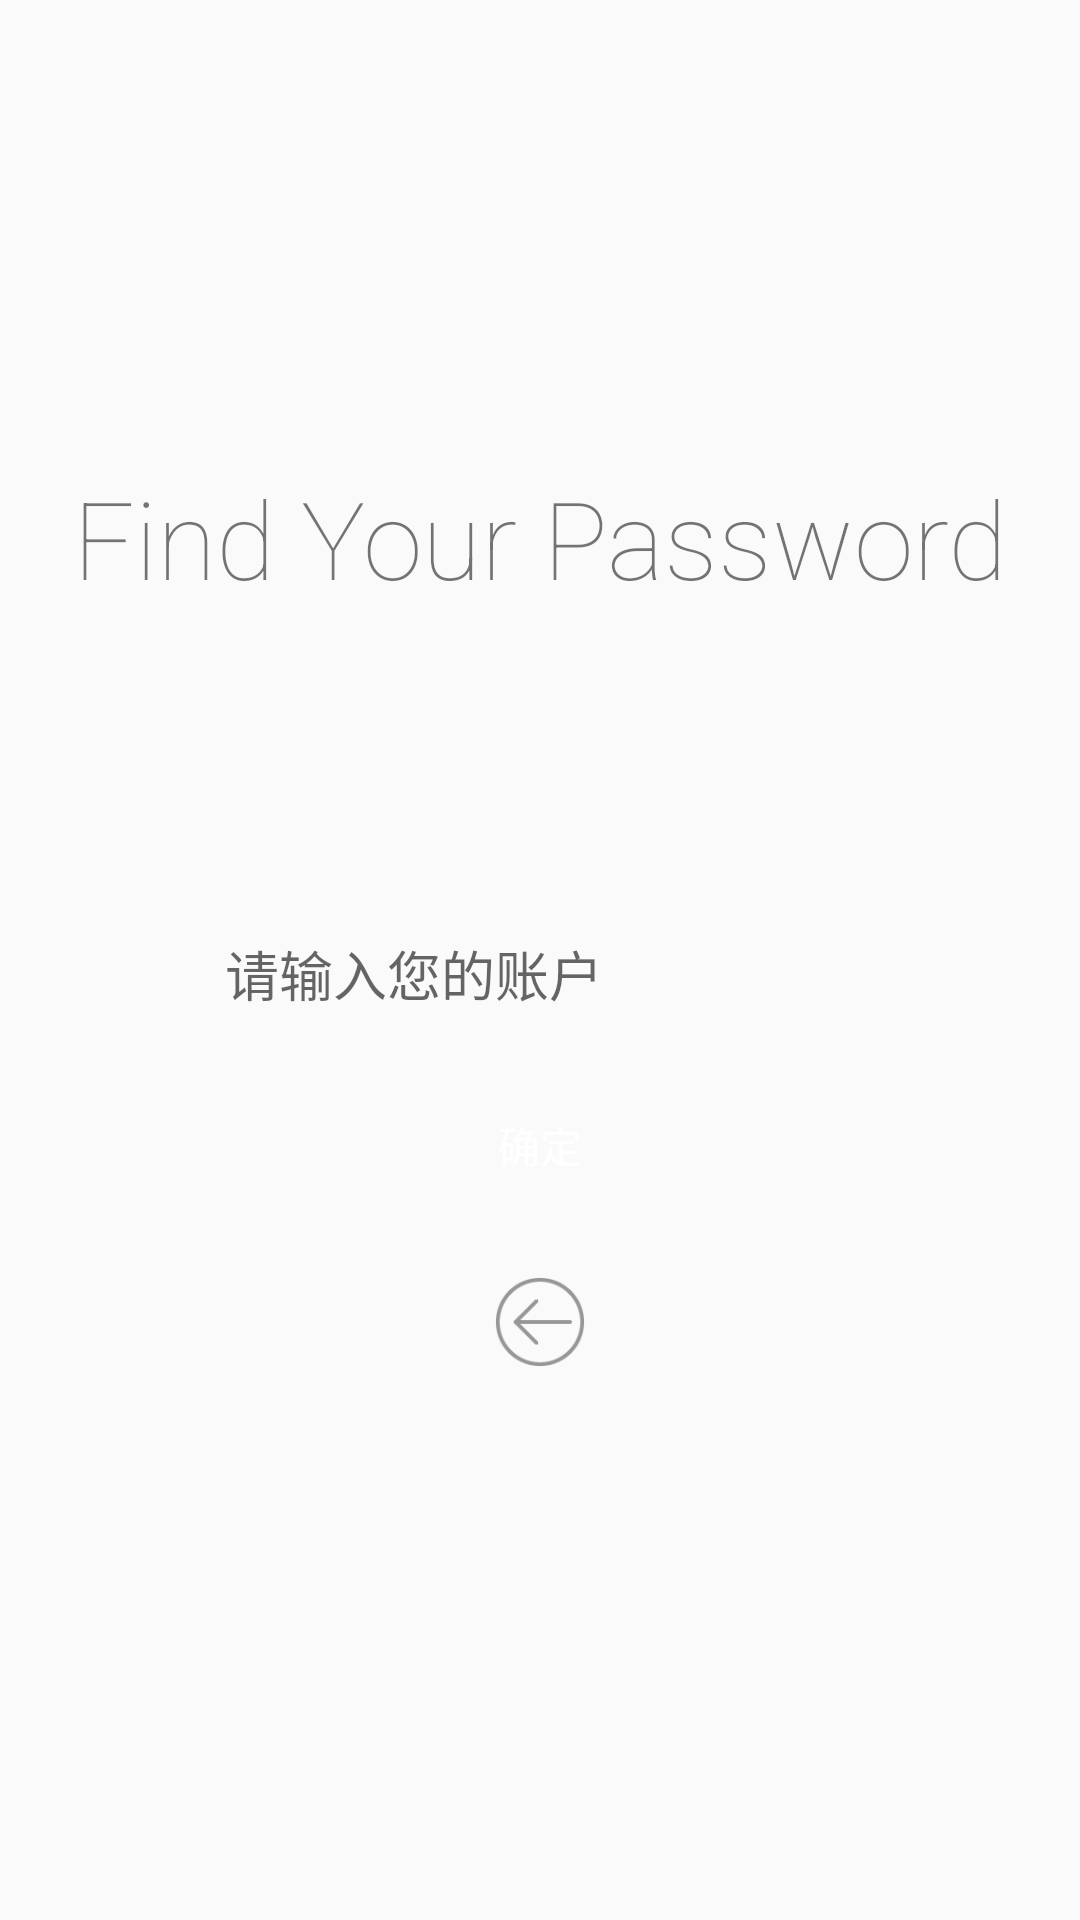

Icons on this 1080 × 1920 Android screen, each with its box as (x1, y1, x2, y2):
back: (496, 1278, 584, 1366)
